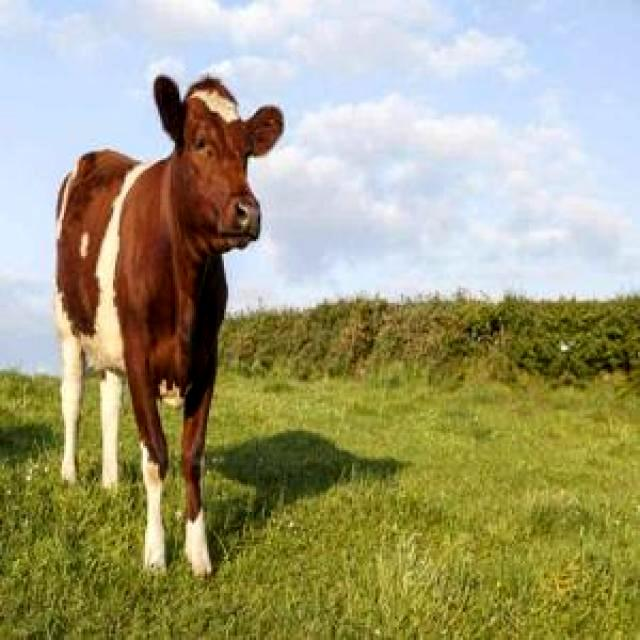COW: (55, 76, 284, 576)
